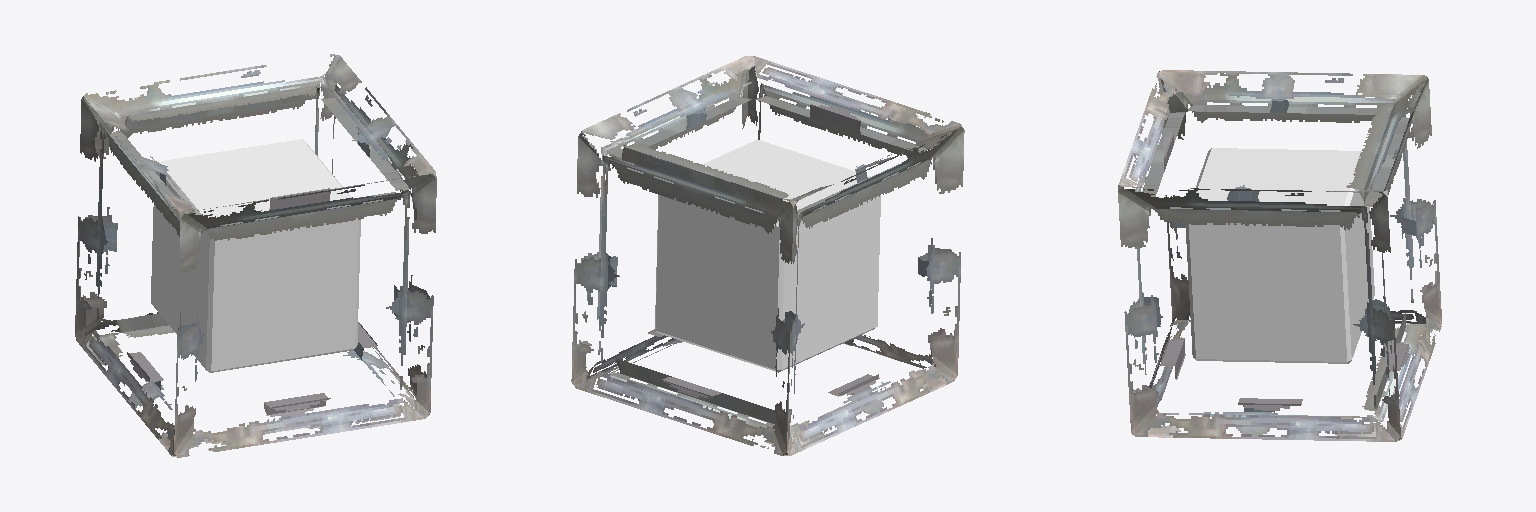
3 renders of one model, left to right at view 1: azimuth 30°, elevation 25°; view 2: azimuth 150°, elevation 25°; view 3: azimuth 270°, elevation 25°, orthographic.
Size of the model in its own units: 10.34 by 9.6 by 10.67.
Materials: 2 (1 with a texture image).